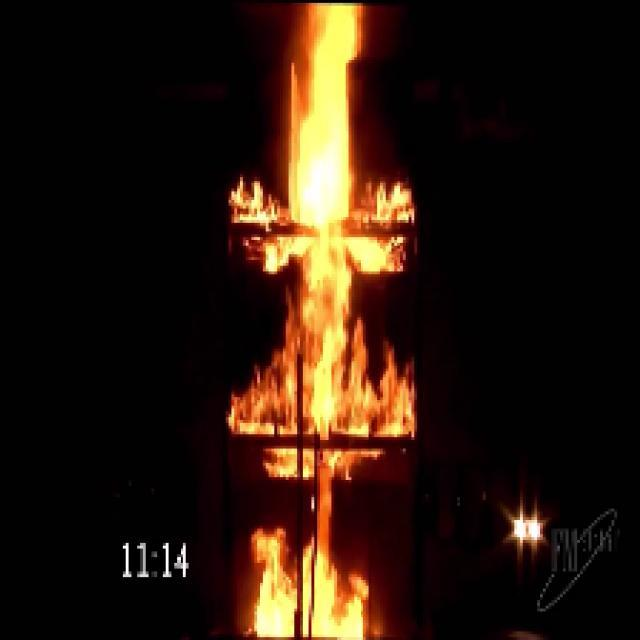Fire: (268, 3, 372, 640)
